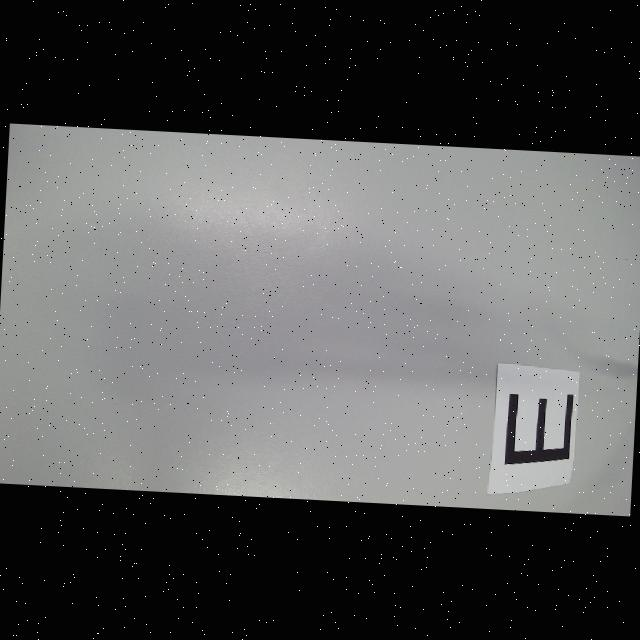FAKE: (504, 391, 575, 468)
